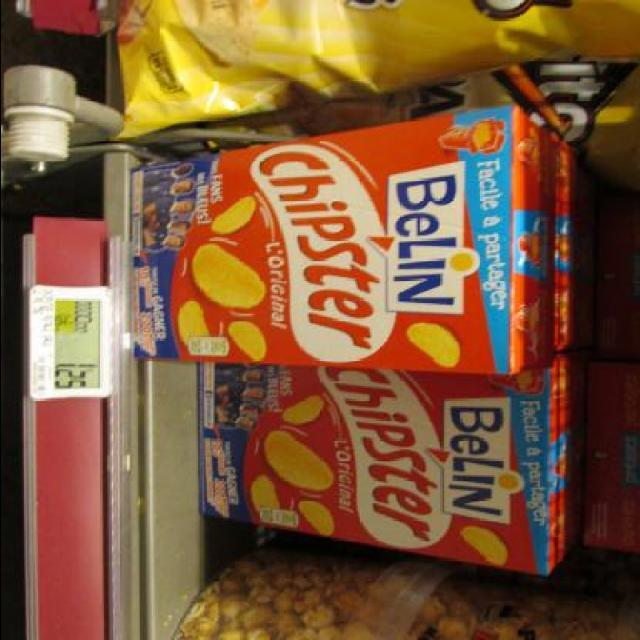Chips: (125, 110, 542, 368), (192, 354, 572, 580)
